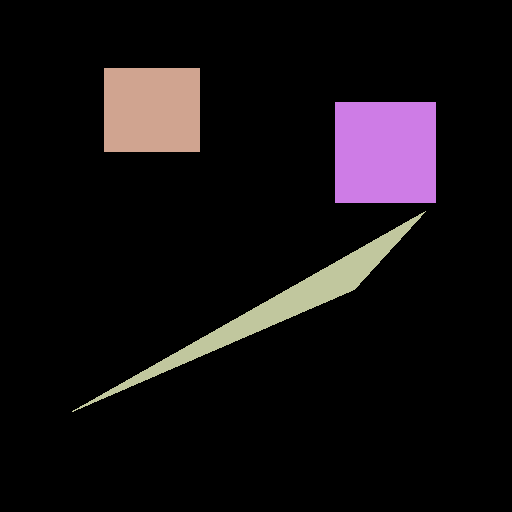rectangle: (104, 68, 199, 151)
square: (335, 102, 435, 202)
triangle: (72, 211, 425, 411)
